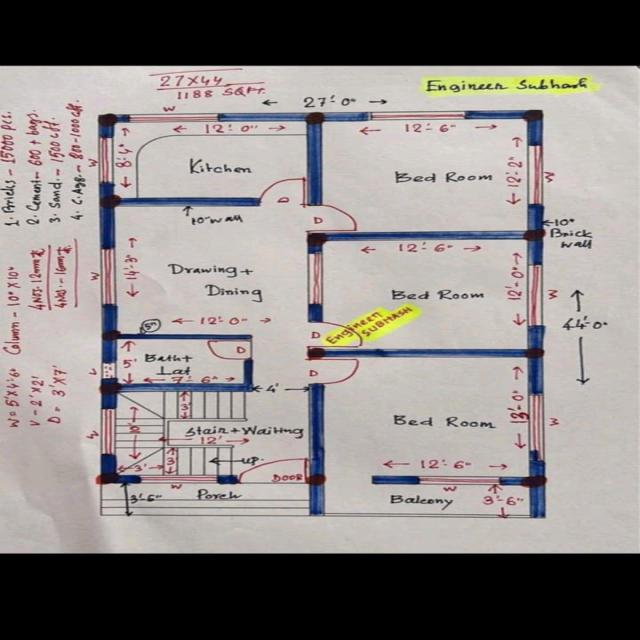column: (302, 109, 336, 130), (297, 228, 332, 248), (515, 106, 553, 124), (516, 226, 552, 244), (92, 193, 126, 211), (92, 110, 124, 129), (522, 472, 552, 490), (95, 382, 130, 397), (304, 343, 333, 361), (94, 470, 125, 486), (95, 329, 127, 344), (304, 472, 330, 488), (521, 345, 548, 360)
